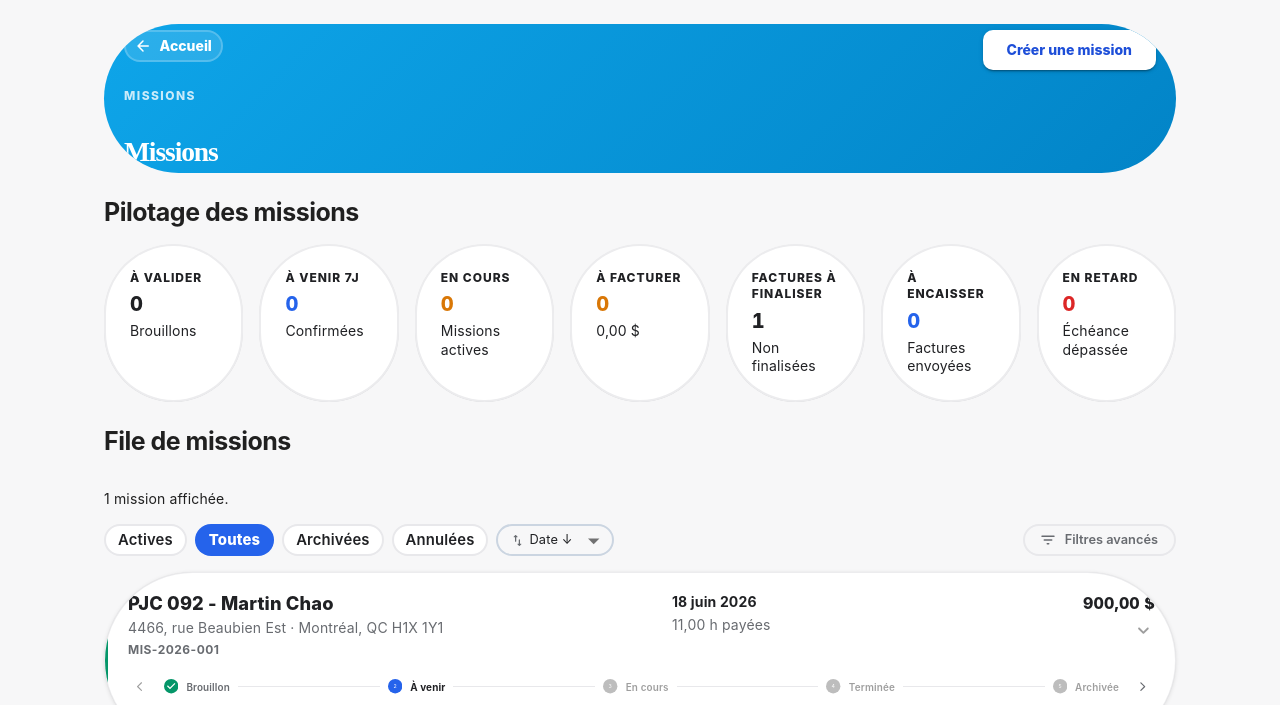
Test case: MissionsPage — bidirectional frise navigation › mission frise back step: CONFIRMED with ready_to_send invoice → dialog with warning
This screenshot has width=1280, height=705.
Click the button named "Reculer : Mission :" at [140, 686], box 128,674 -> 152,698
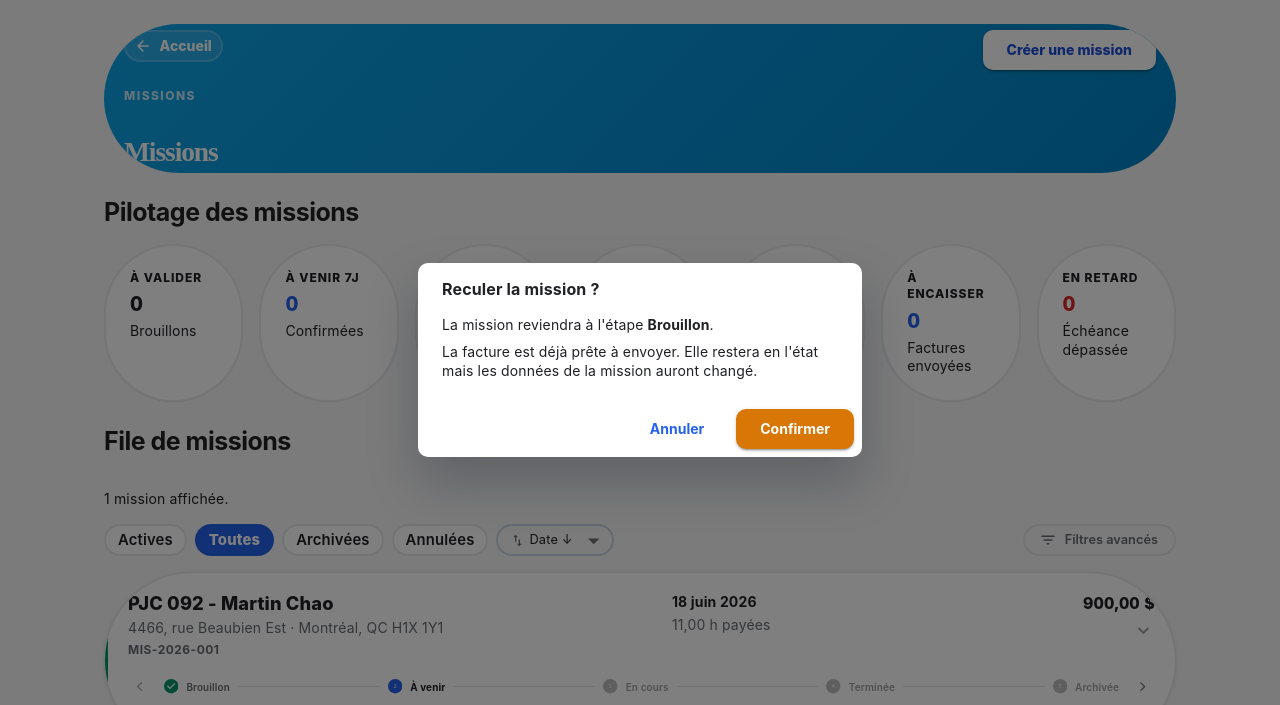
Now the heading "Reculer la mission ?" is shown, box 442,279 -> 600,299
Now the text "déjà prête à envoyer" is shown, box 442,343 -> 818,379
